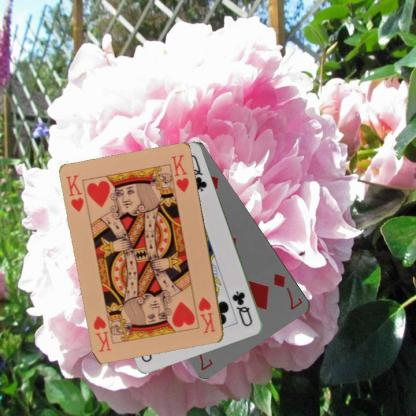7d: (271, 270, 304, 312)
Kh: (64, 172, 86, 214), (196, 295, 217, 335)
Qc: (230, 288, 256, 328)
